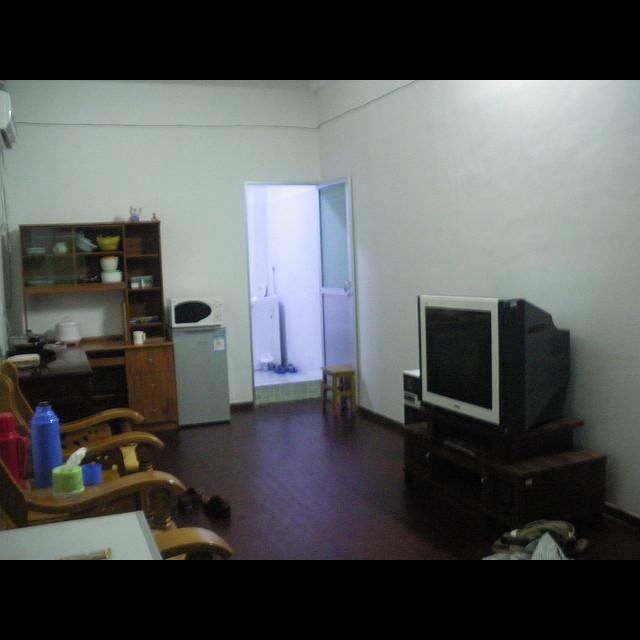Flat-Panel-TV: (419, 295, 572, 437)
Microwave: (167, 296, 223, 328)
Refrigerator: (168, 323, 231, 429)
